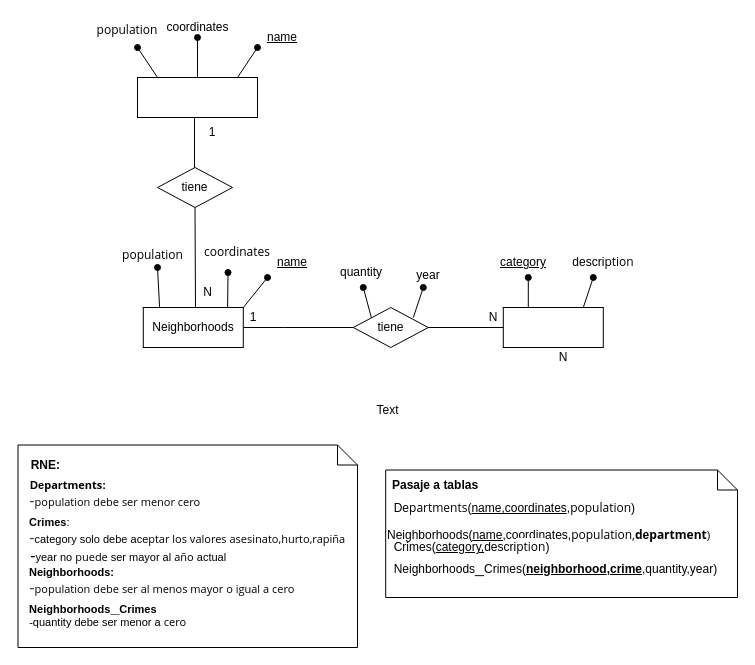
This 755x665 diagram has some shape labels left out. Here are the shapes that lost their labels. From the top down, the centre of each, then its label:
At point 197,97: "De partments".
At point 552,327: "Crimes".
